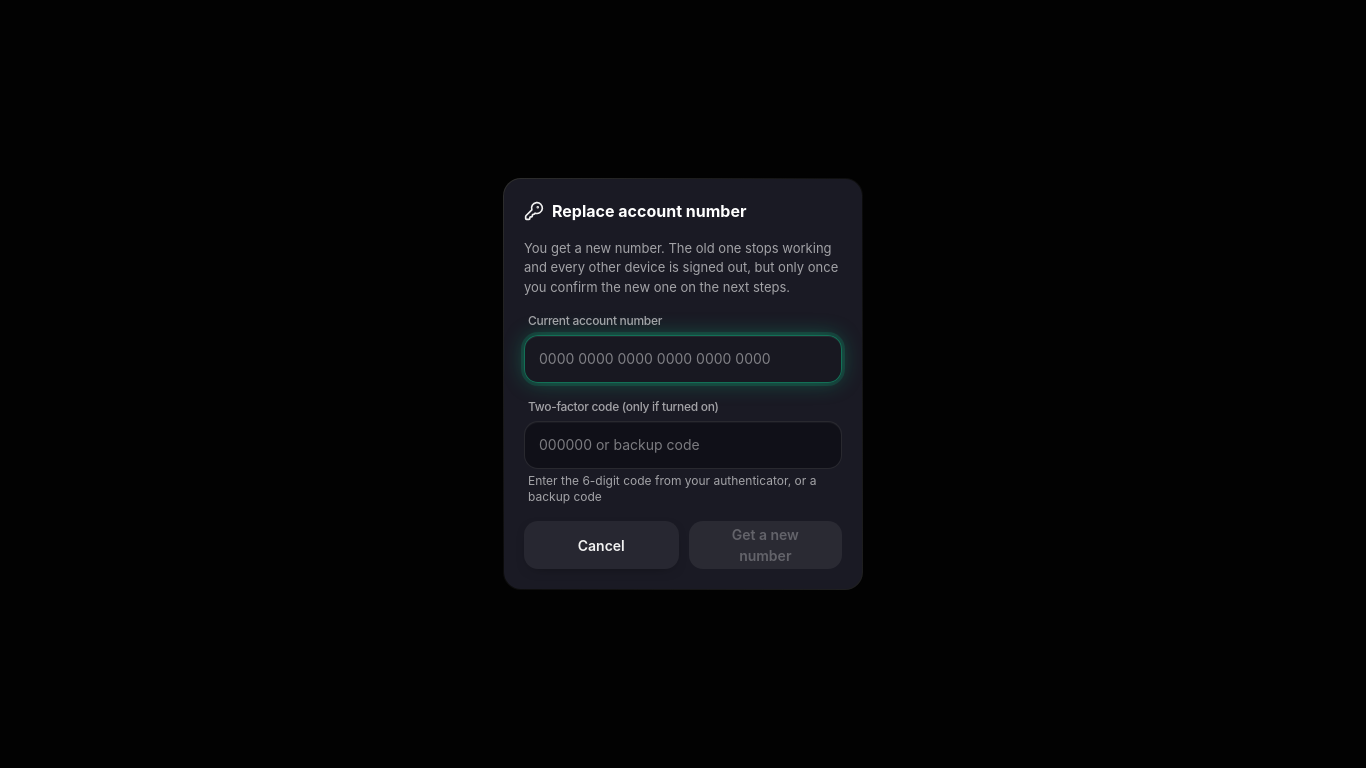
replacing the number › step 1 sends the current number (digits only) and nothing else for a password-less account
Type "111122223333444455556666" into the field labelled "Current account number" at (683, 359), box 539,349 -> 827,369
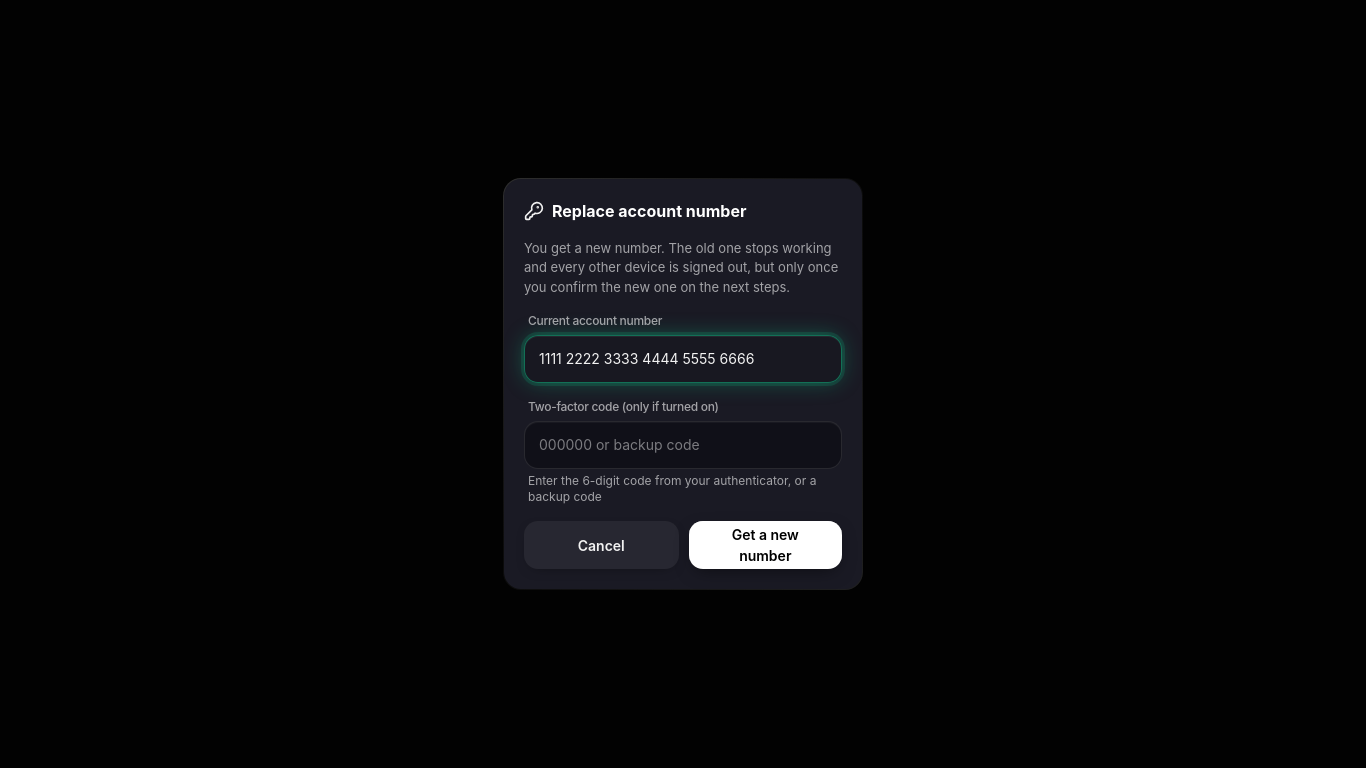
Click the button "Get a new number" at (765, 545), box 689,521 -> 842,569
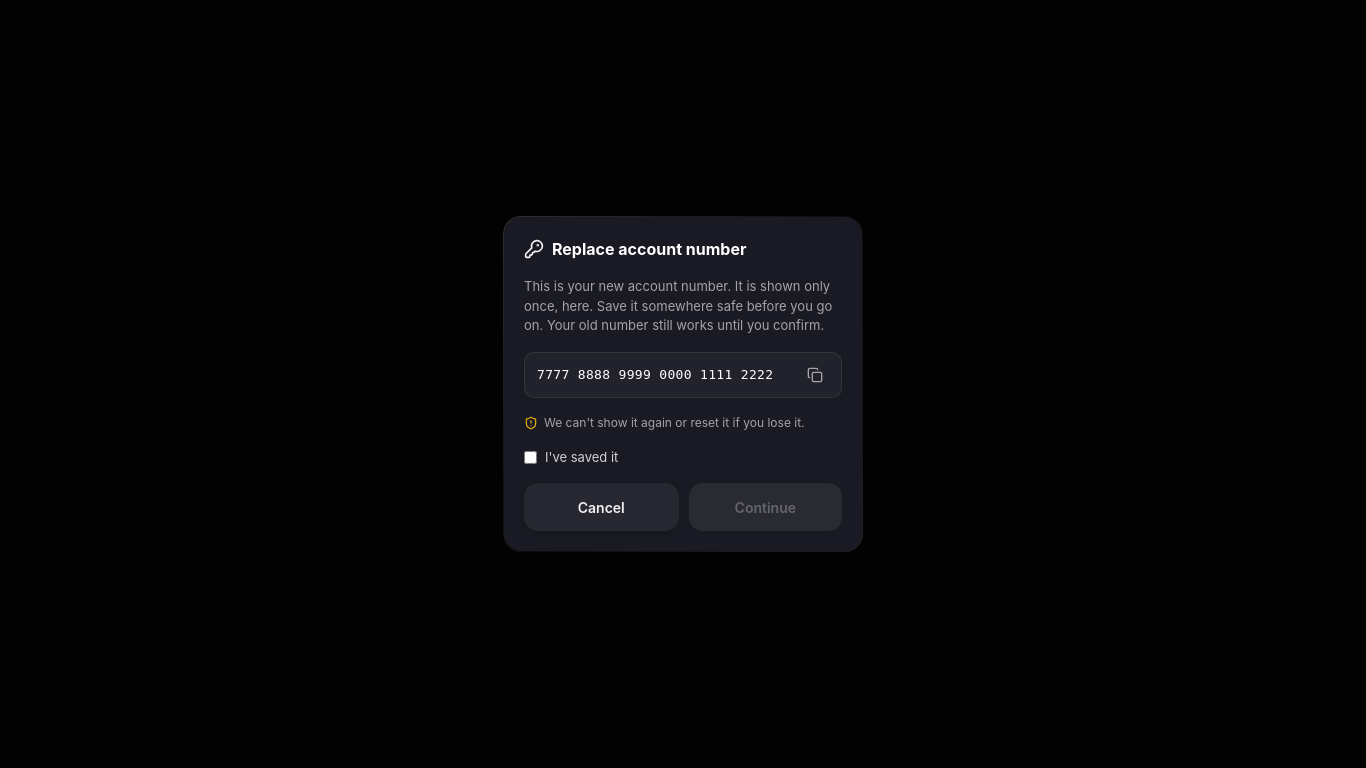
Expected: the text "7777 8888 9999 0000 1111 2222" is shown, 537,365 -> 793,384
